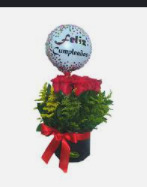RedRose: (59, 78, 74, 93), (78, 76, 88, 93), (91, 74, 102, 87), (52, 77, 60, 92)
